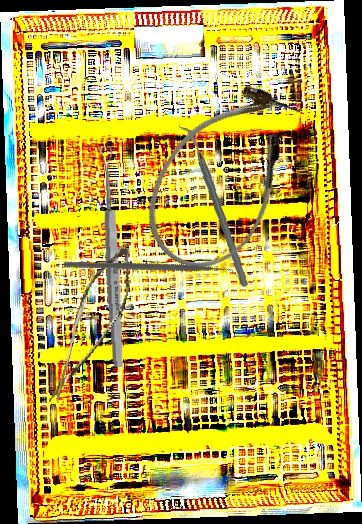Cannula: (124, 64, 322, 289)
Chopper: (62, 189, 243, 356), (168, 123, 260, 288)
Micro Scissor: (48, 238, 139, 415)
Surgical Spoon: (99, 145, 126, 368)
